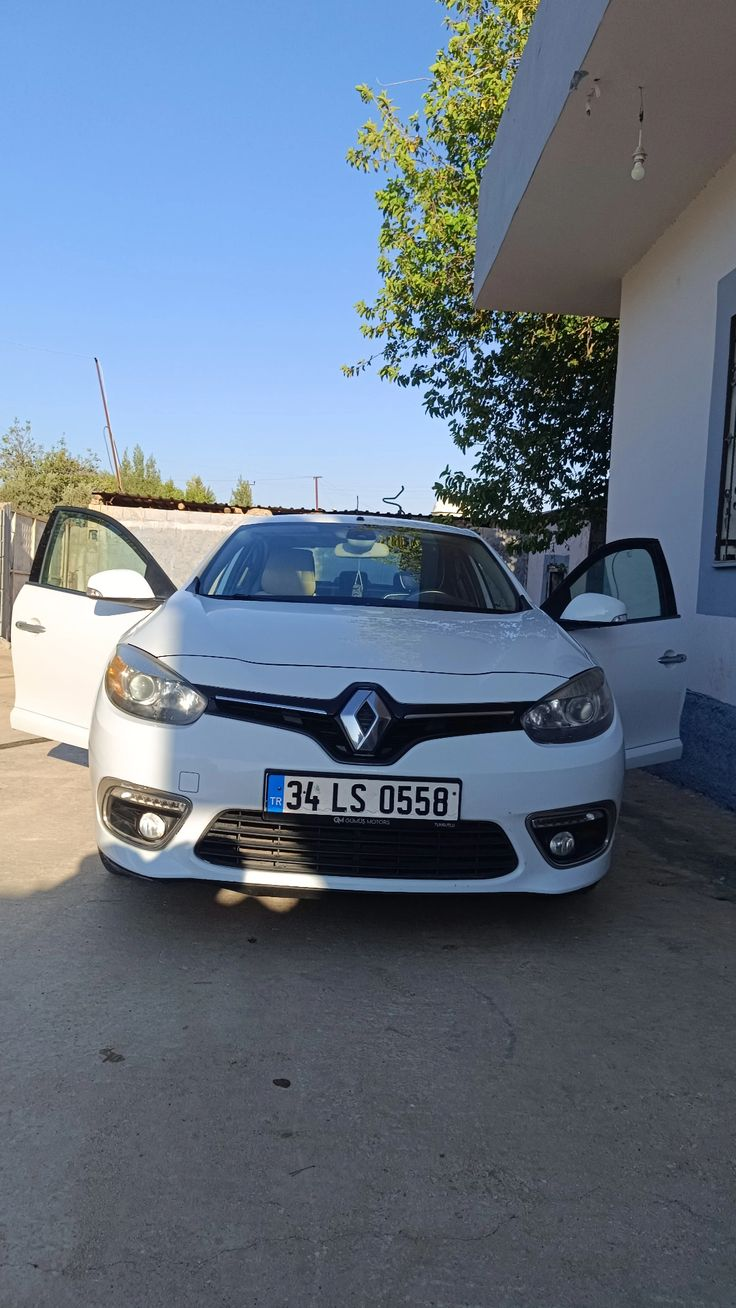plate: (261, 771, 468, 821)
